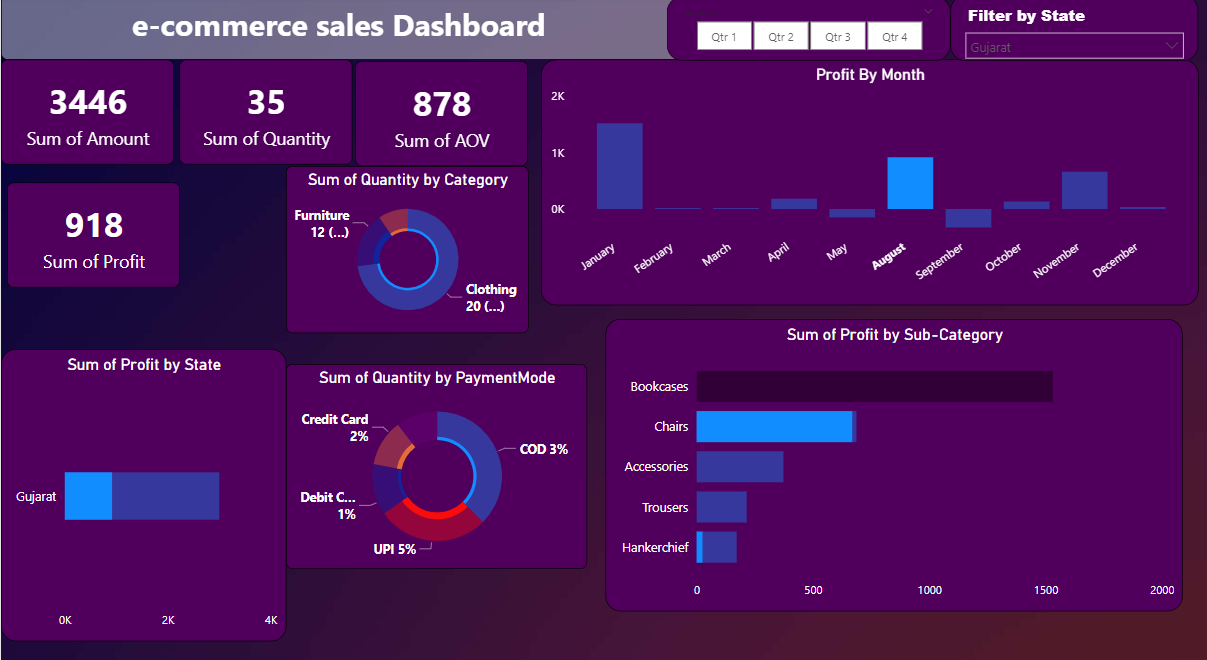

Layout of this report page (visuals, bound fields, positions):
{"tool":"powerbi","page":{"name":"Page 1","canvas":[1280,720],"ordinal":0},"visuals":[{"type":"textbox","box":[0,0,723.7,68.4],"z":0},{"type":"columnChart","title":"Profit By Month","fields":{"Category":["Orders.Order Date.Variation.Date Hierarchy.Month"],"Y":["Sum(Details.Profit)"]},"box":[572.6,68,697.3,260.8],"z":1000},{"type":"barChart","fields":{"Y":["Sum(Details.Profit)"],"Category":["Details.Sub-Category"]},"box":[640.6,343.9,612.3,309.9],"z":2000},{"type":"donutChart","fields":{"Y":["Sum(Details.Quantity)"],"Category":["Details.PaymentMode"]},"box":[302.4,391.2,319.4,217.3],"z":3000},{"type":"donutChart","fields":{"Category":["Details.Category"],"Y":["Sum(Details.Quantity)"]},"box":[302.4,181.4,257,177.6],"z":4000},{"type":"card","fields":{"Values":["Sum(Details.Amount)"]},"box":[0,68,183.3,111.5],"z":5000},{"type":"card","fields":{"Values":["Sum(Details.Quantity)"]},"box":[189,68,183.3,111.5],"z":6000},{"type":"card","fields":{"Values":["Sum(Details.AOV)"]},"box":[376.1,69.9,183.3,111.5],"z":7000},{"type":"card","fields":{"Values":["Sum(Details.Profit)"]},"box":[5.7,198.4,183.3,111.5],"z":8000},{"type":"barChart","fields":{"Y":["Sum(Details.Profit)"],"Category":["Orders.State"]},"box":[0,376.1,302.4,309.9],"z":9000},{"type":"slicer","fields":{"Values":["Orders.Order Date.Variation.Date Hierarchy.Quarter"]},"box":[706.8,1.9,300.5,68],"z":10000},{"type":"slicer","fields":{"Values":["Orders.State"]},"box":[1007.3,0,262.7,69.9],"z":11000}]}

Visuals, with their boxes in screenshot pixels (x1, y1, x2, y2), scaled from the page's 1280x720 canvas onto the 1207x660 screenshot:
textbox: crop(0, 0, 682, 63)
"Profit By Month" columnChart: crop(540, 62, 1197, 301)
barChart - Sum(Details.Profit) x Details.Sub-Category: crop(604, 315, 1181, 599)
donutChart - Sum(Details.Quantity) x Details.PaymentMode: crop(285, 359, 586, 558)
donutChart - Details.Category x Sum(Details.Quantity): crop(285, 166, 527, 329)
card - Sum(Details.Amount): crop(0, 62, 173, 165)
card - Sum(Details.Quantity): crop(178, 62, 351, 165)
card - Sum(Details.AOV): crop(355, 64, 527, 166)
card - Sum(Details.Profit): crop(5, 182, 178, 284)
barChart - Sum(Details.Profit) x Orders.State: crop(0, 345, 285, 629)
slicer - Orders.Order Date.Variation.Date Hierarchy.Quarter: crop(666, 2, 950, 64)
slicer - Orders.State: crop(950, 0, 1198, 64)
